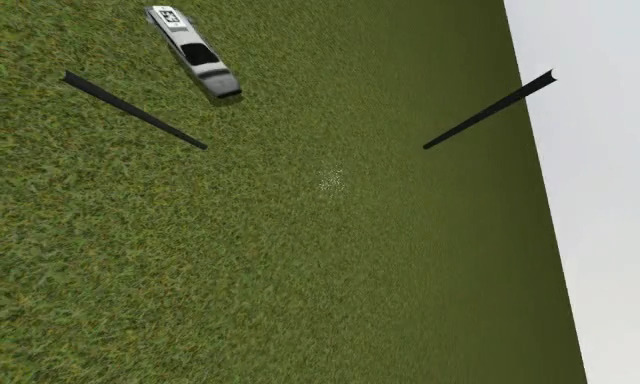Car: (144, 6, 242, 100)
Landing Pad: (154, 6, 184, 28)
